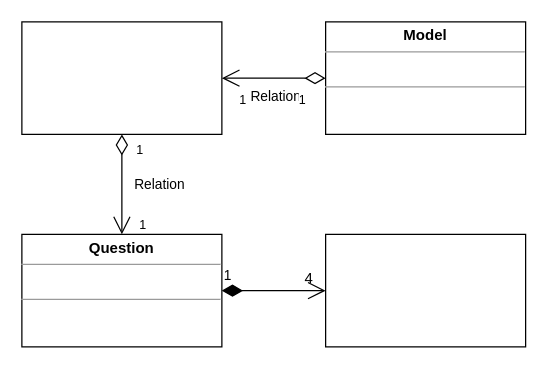
This 548x369 diagram has some shape labels left out. The centre of each missing label's shape, as x and y in pixels:
Answer: point (425, 290)
Game: point (121, 77)
